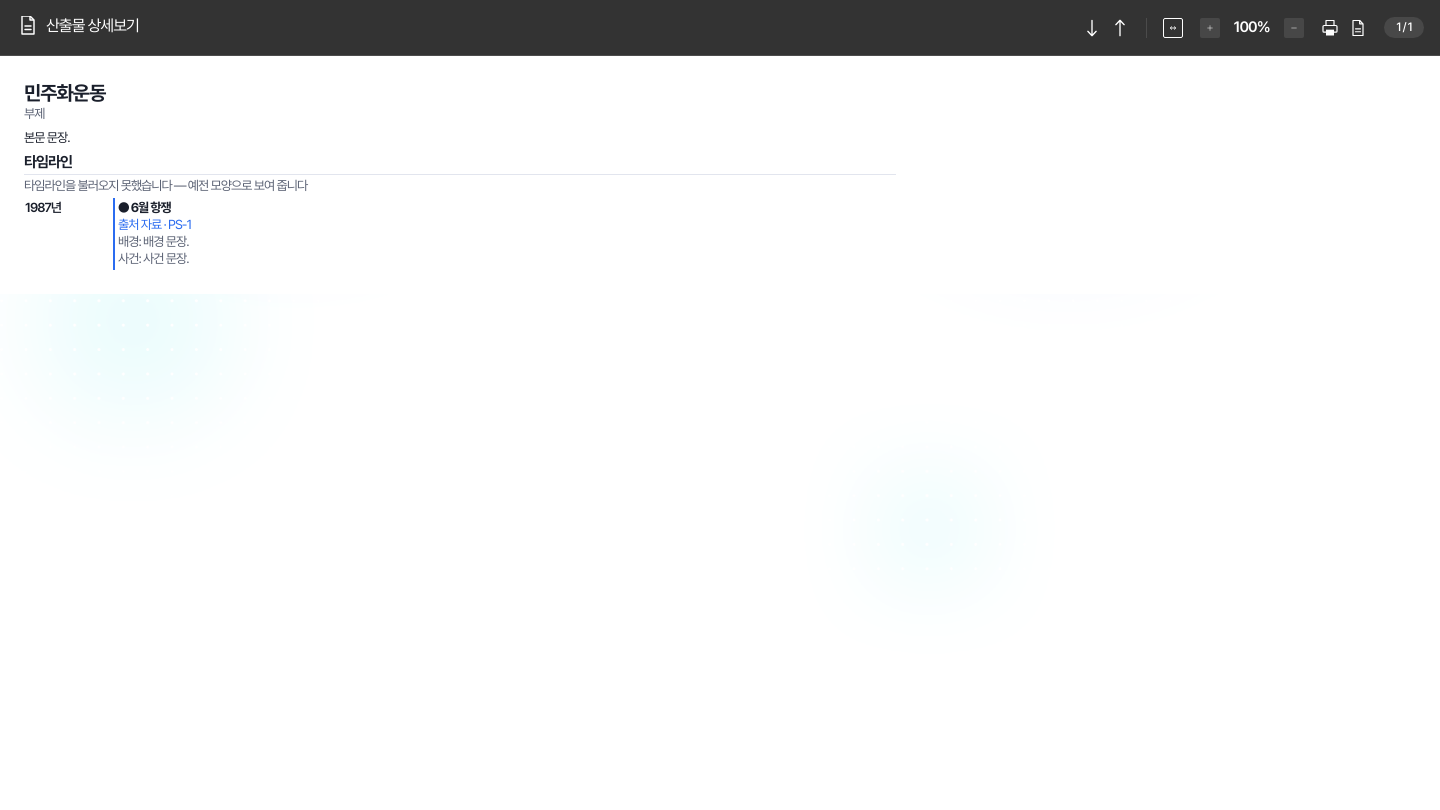
it: 설명문 내부 텍스트를 평문으로 복사한다
The width and height of the screenshot is (1440, 810).
Click the button named "내부 텍스트 복사". click: (1358, 28)
box: [1348,18,1368,38]
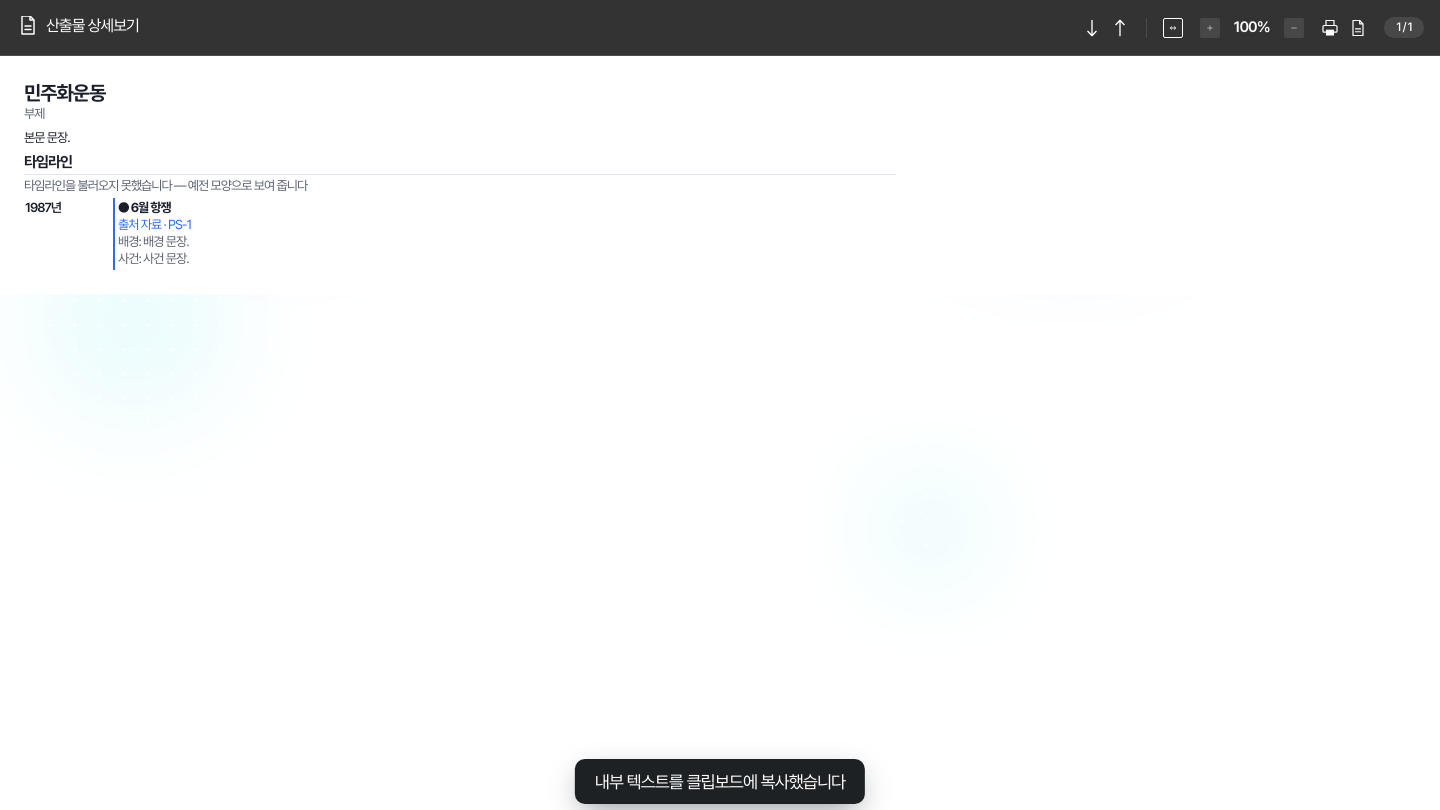
Expected: the message shows "클립보드에 복사", [595,771,845,792]
